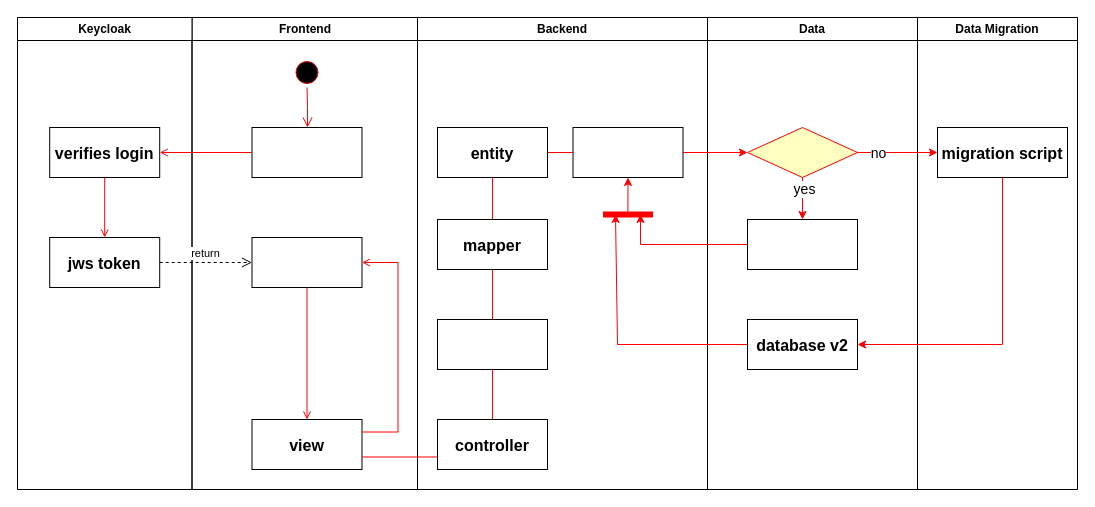
This 1095x507 diagram has some shape labels left out. The centre of each missing label's shape, as x and y in pixels:
"database v1" belongs at (802,244).
"dto" belongs at (492,344).
"mmdv1" belongs at (802,152).
"repository" belongs at (627,152).
"send login information" belongs at (306,152).
"user action" belongs at (306,262).
